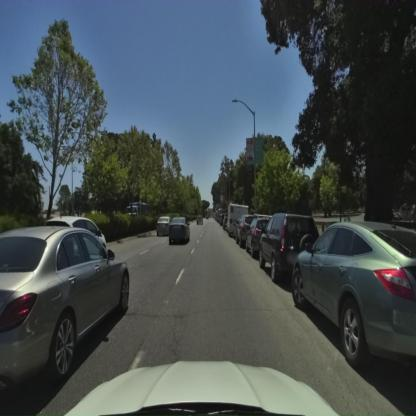car: (0, 217, 133, 414), (292, 217, 415, 399), (258, 214, 321, 284), (242, 217, 270, 254), (226, 204, 250, 239), (168, 217, 191, 244), (236, 217, 256, 247), (156, 216, 172, 237)
